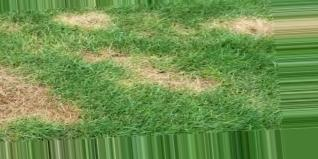patch: (9, 85, 40, 117), (1, 74, 19, 121), (41, 101, 81, 121), (129, 70, 174, 82), (229, 21, 270, 33), (74, 16, 108, 29), (172, 76, 205, 87)
